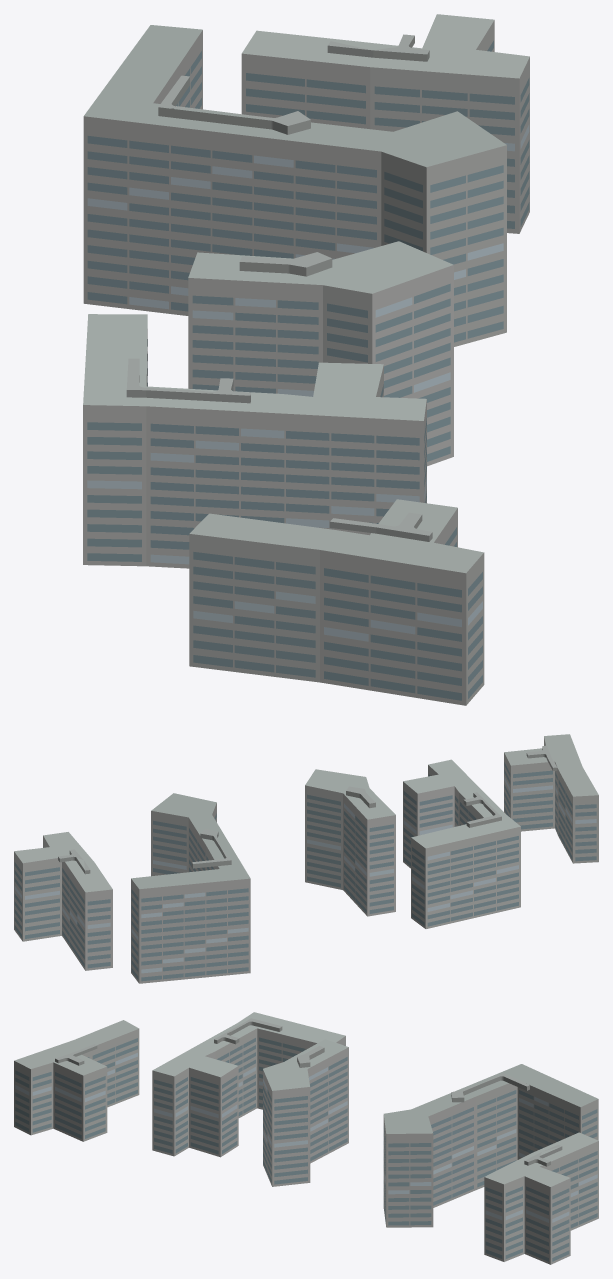
File: apt-a41279902.glb
3 renders of one model, top to bottom at view 1: azimuth 30°, elevation 25°; view 2: azimuth 150°, elevation 25°; view 3: azimuth 270°, elevation 25°, orthographic. The views are drawn at different scales.
Visible parts, largest first — view 1: apt-a41279902; view 2: apt-a41279902; view 3: apt-a41279902.
Part boxes in pixels (x1,y1,x2,y2): apt-a41279902: [83, 14, 529, 705]; apt-a41279902: [14, 734, 598, 983]; apt-a41279902: [14, 1012, 598, 1264].
Bounding box in the file's own units: 160 × 42 × 221.
